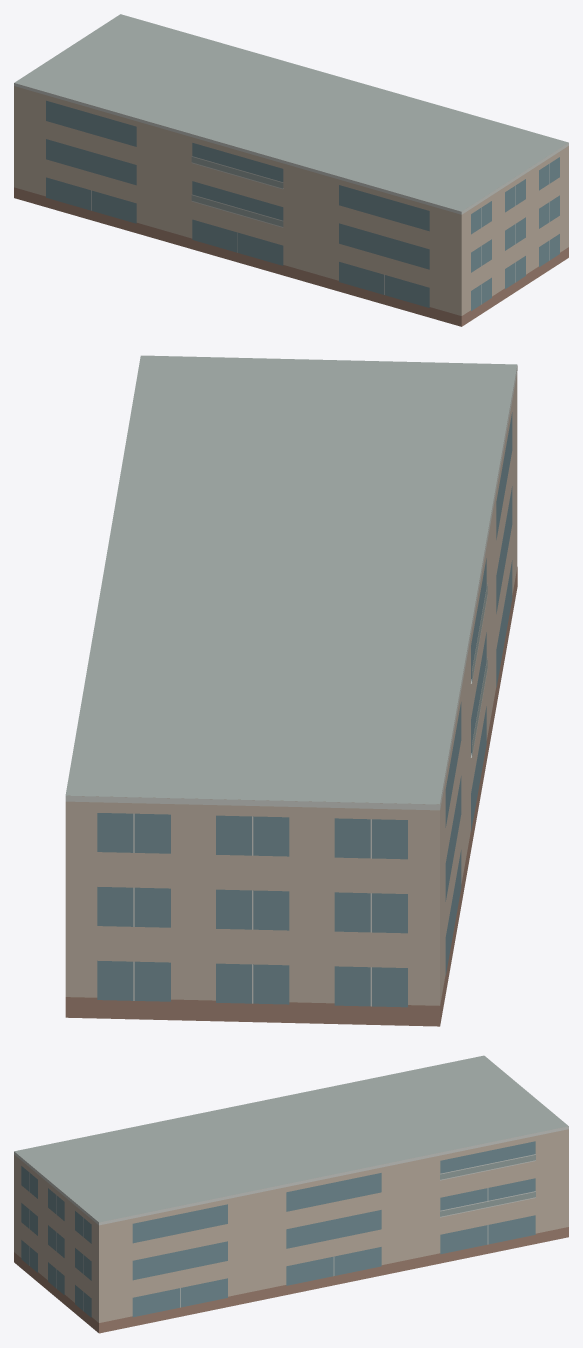
File: survey-upis-32704900.glb
3 views of the same model, one above another, from view 1: azimuth 30°, elevation 25°; view 2: azimuth 150°, elevation 25°; view 3: azimuth 270°, elevation 25° (orthographic). The views are drawn at different scales.
Parts seen in each view (by area): view 1: survey-upis-32704900.tmp; view 2: survey-upis-32704900.tmp; view 3: survey-upis-32704900.tmp.
Part boxes in pixels (x1,y1,x2,y2): survey-upis-32704900.tmp: (14, 14, 568, 326); survey-upis-32704900.tmp: (65, 355, 517, 1026); survey-upis-32704900.tmp: (14, 1055, 568, 1333).
Bounding box in the file's own units: 29.53 × 9.15 × 41.47.
